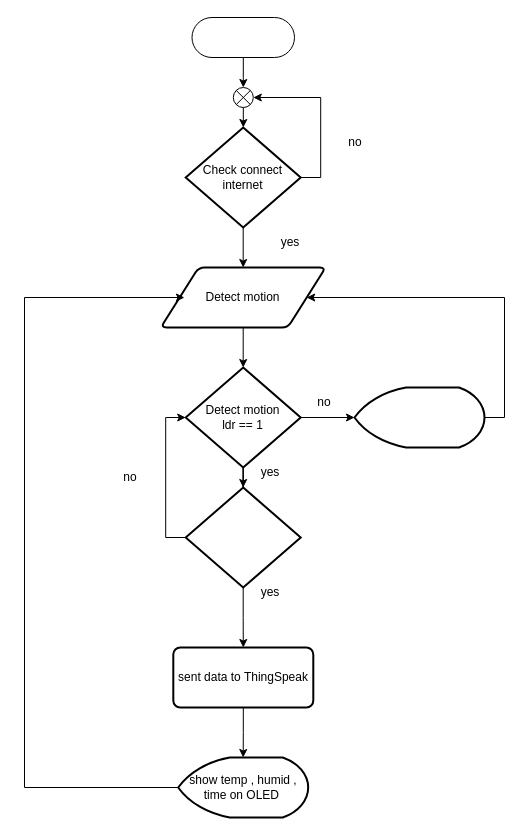
This 530x836 diagram has some shape labels left out. The shapes that lost their labels are listed below. From the top down, each one's centre as x and y in pixels, then its label:
At (x=242, y=37): "start".
At (x=419, y=417): "show no object detected".
At (x=242, y=537): "second of date % 30 == 0".
